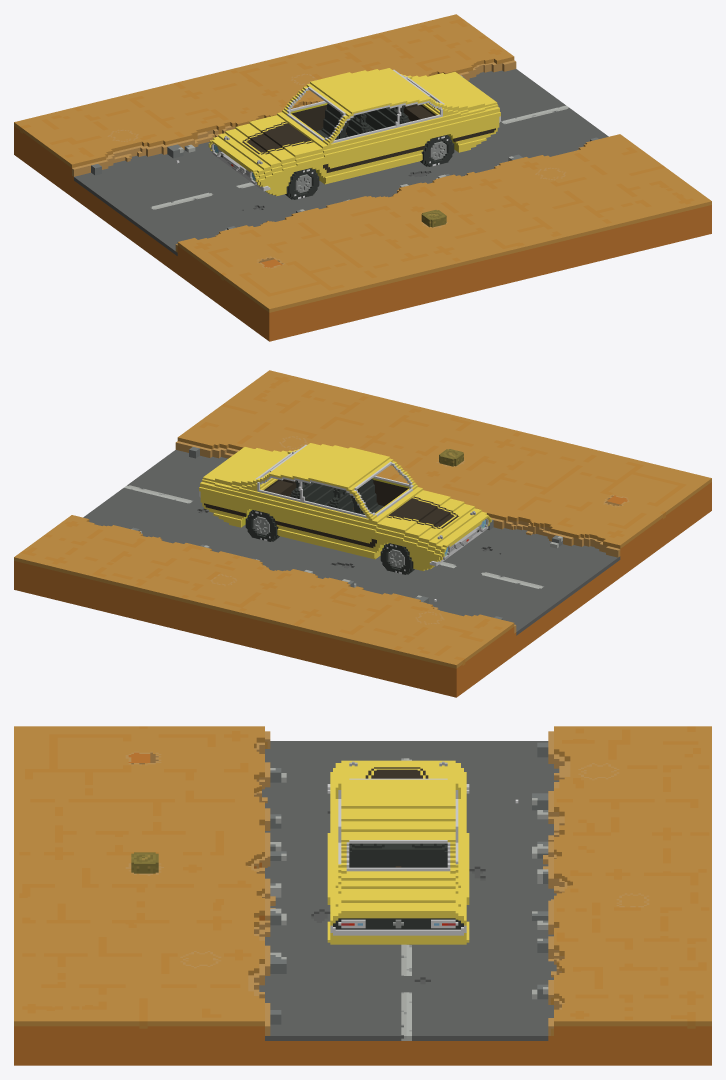
File: maverick_road.fbx
The picture shows the model from 3 angles, top to bottom: view 1: azimuth 30°, elevation 25°; view 2: azimuth 150°, elevation 25°; view 3: azimuth 270°, elevation 25°; orthographic projection. The views are drawn at different scales.
Visible parts, largest first — view 1: ObjObject.002; view 2: ObjObject.002; view 3: ObjObject.002.
Boxes of the visible parts, left/top/right/bottom form: ObjObject.002: left=14, top=14, right=711, bottom=341; ObjObject.002: left=14, top=370, right=711, bottom=697; ObjObject.002: left=14, top=726, right=711, bottom=1065.
Bounding box in the file's own units: 2560 × 510 × 2560.
1 material, 1 textured.
